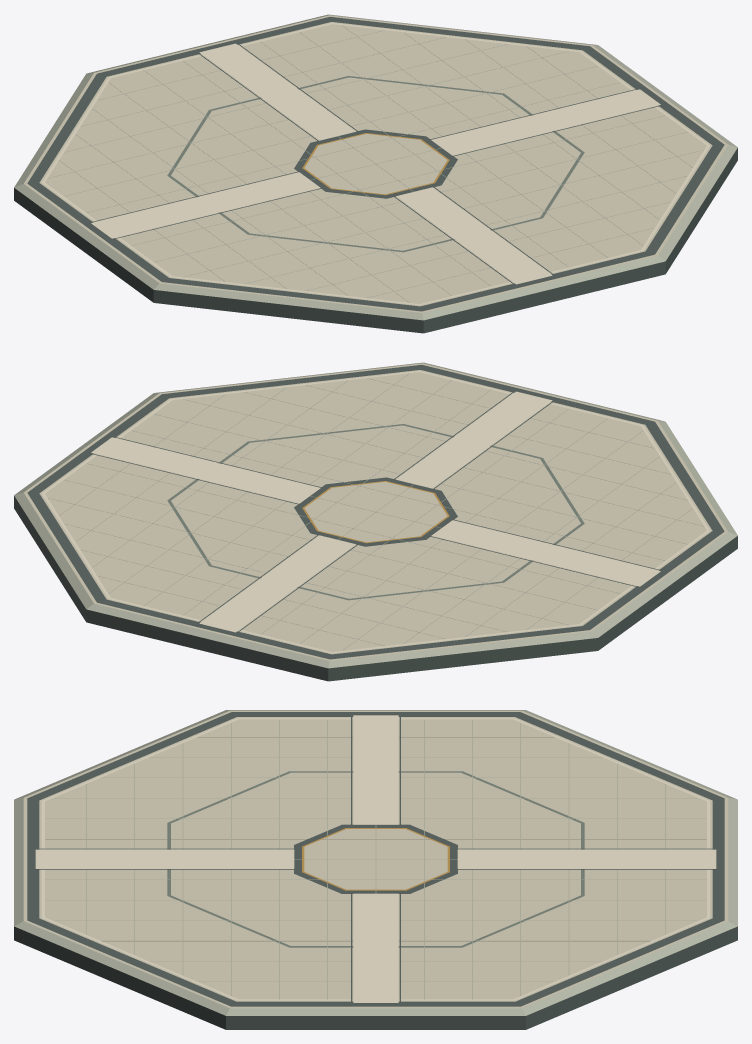
File: floor-v1.glb
The picture shows the model from 3 angles, top to bottom: view 1: azimuth 30°, elevation 25°; view 2: azimuth 150°, elevation 25°; view 3: azimuth 270°, elevation 25°; orthographic projection. The views are drawn at different scales.
Parts seen in each view (by area): view 1: floor; view 2: floor; view 3: floor.
Boxes of the visible parts, box(x1,y1,x2,y2) form: floor: box(14, 14, 737, 333); floor: box(14, 362, 737, 681); floor: box(14, 710, 737, 1029).
Bounding box in the file's own units: 30 × 0.813 × 30.
